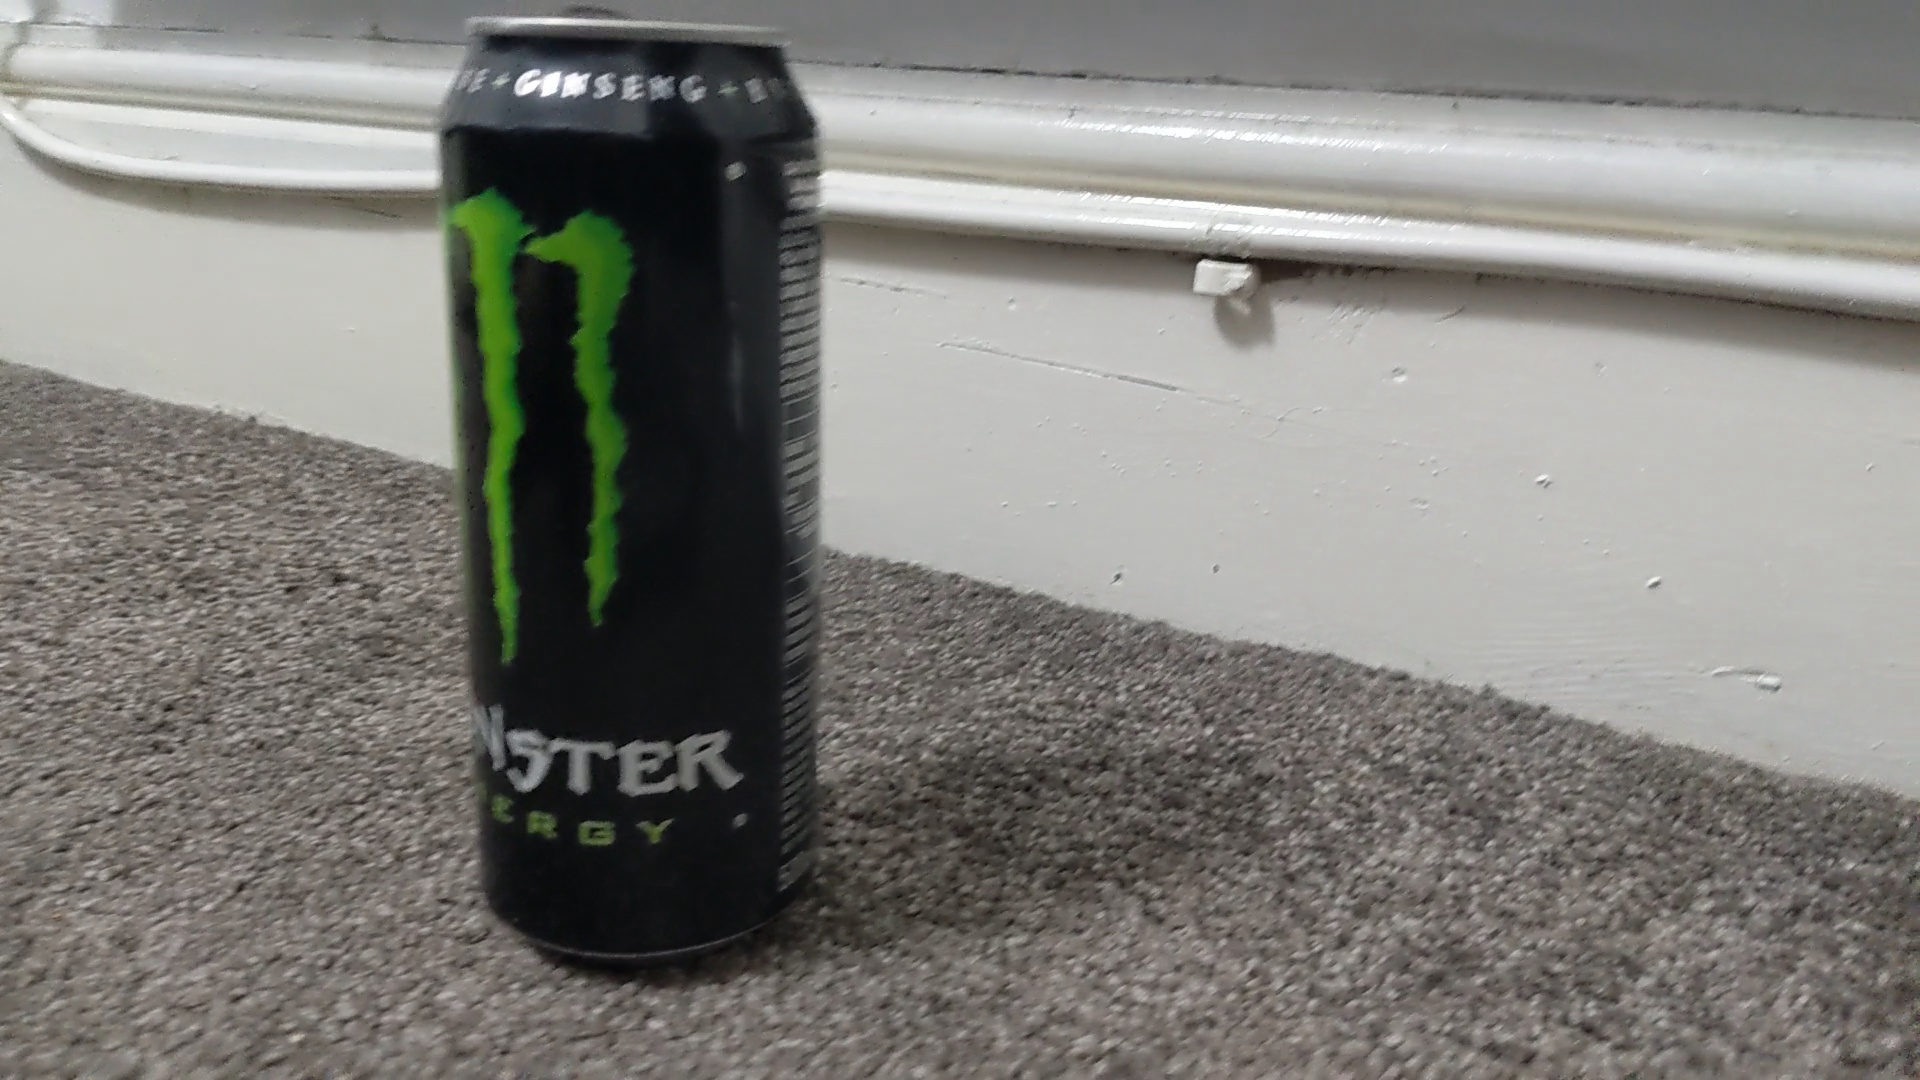monster-original: (436, 17, 822, 967)
